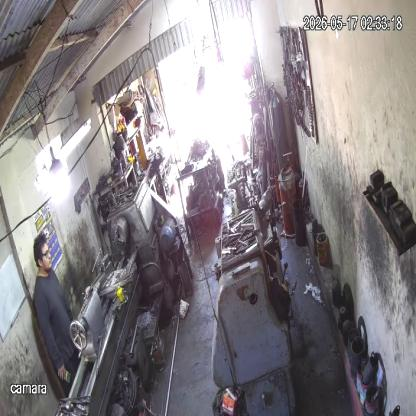lentes: (36, 248, 50, 262)
